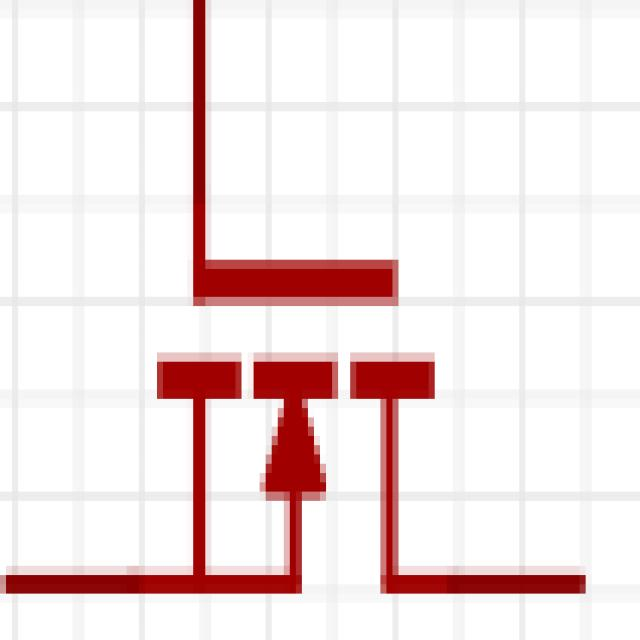pmos: (9, 8, 600, 633)
